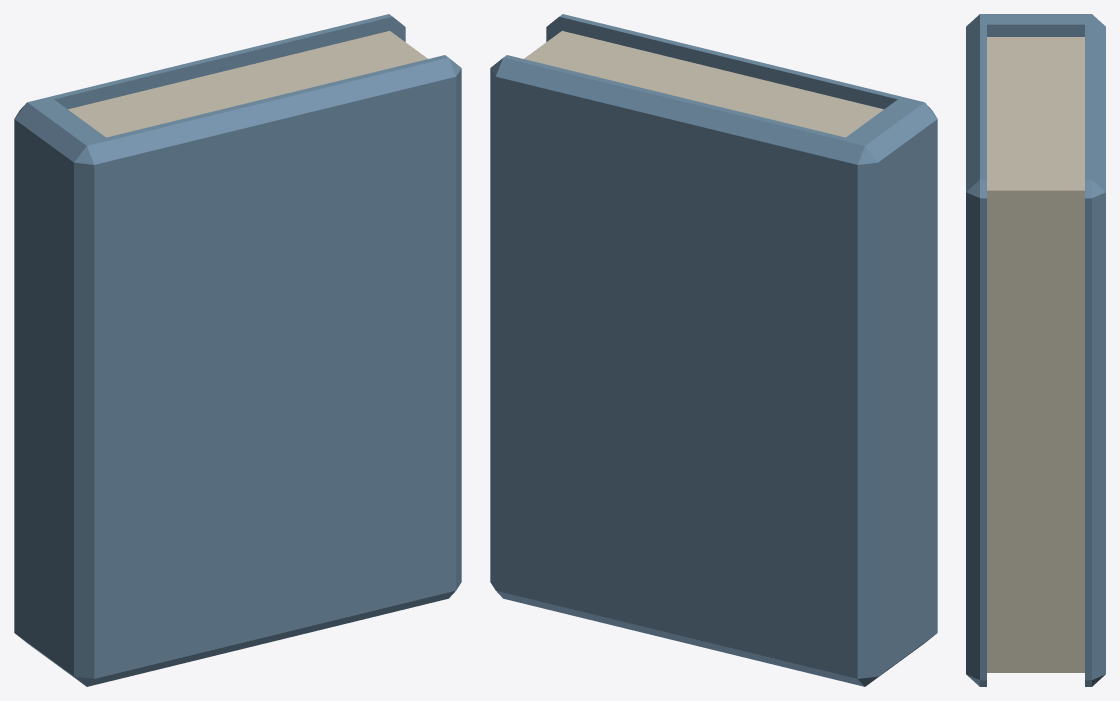
The model's file is book.fbx.
3 views of the same model, side by side, from view 1: azimuth 30°, elevation 25°; view 2: azimuth 150°, elevation 25°; view 3: azimuth 270°, elevation 25° (orthographic). The views are drawn at different scales.
Visible parts, largest first — view 1: book; view 2: book; view 3: book.
Part boxes in pixels (x1=…): book: x1=14, y1=14, x2=461, y2=686; book: x1=490, y1=14, x2=937, y2=686; book: x1=966, y1=14, x2=1105, y2=686.
Bounding box in the file's own units: 15 × 20 × 5.
